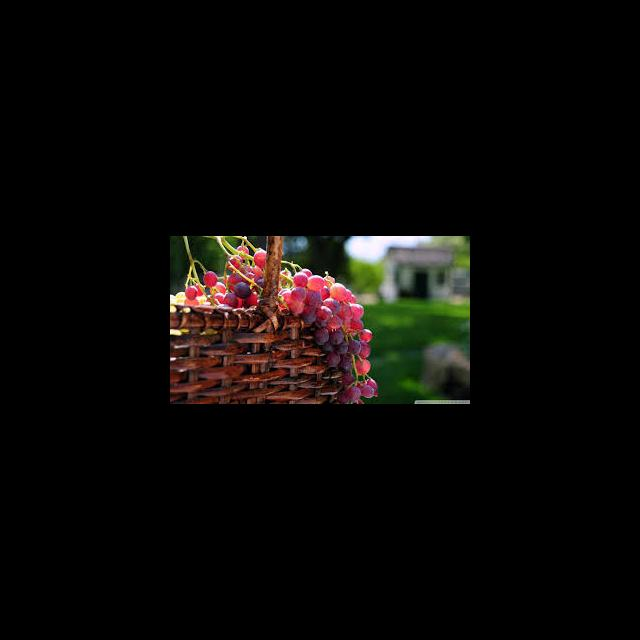grape: (170, 243, 378, 403)
